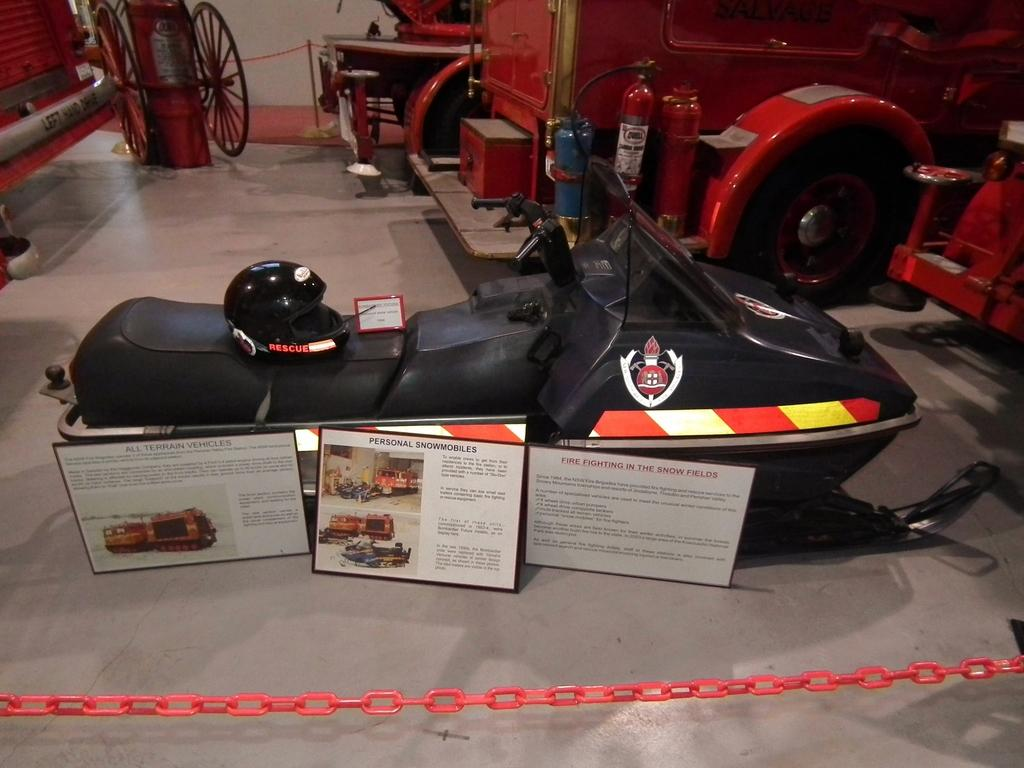helmet: (223, 259, 351, 363)
